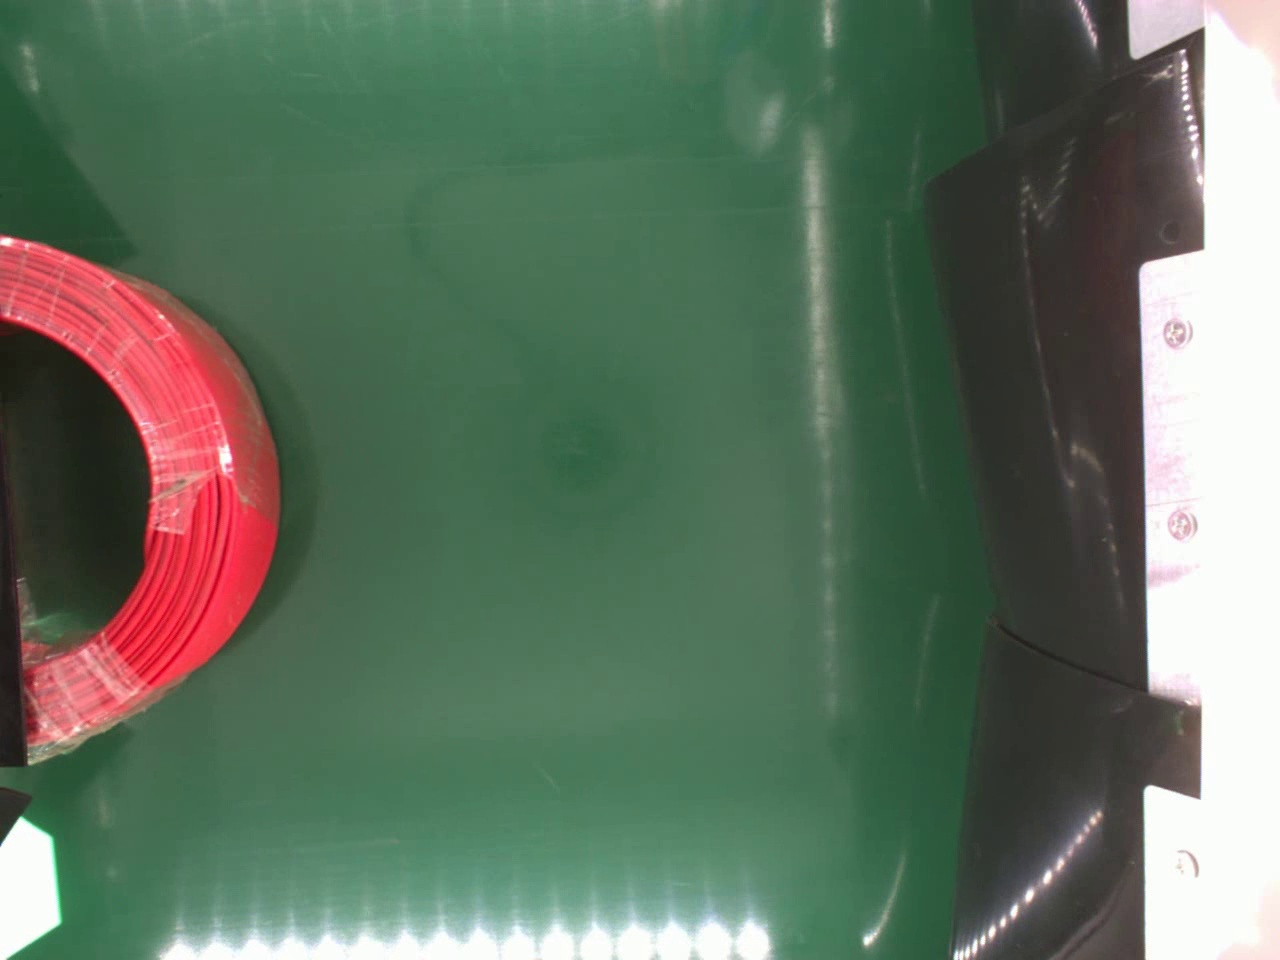red: (0, 232, 285, 751)
